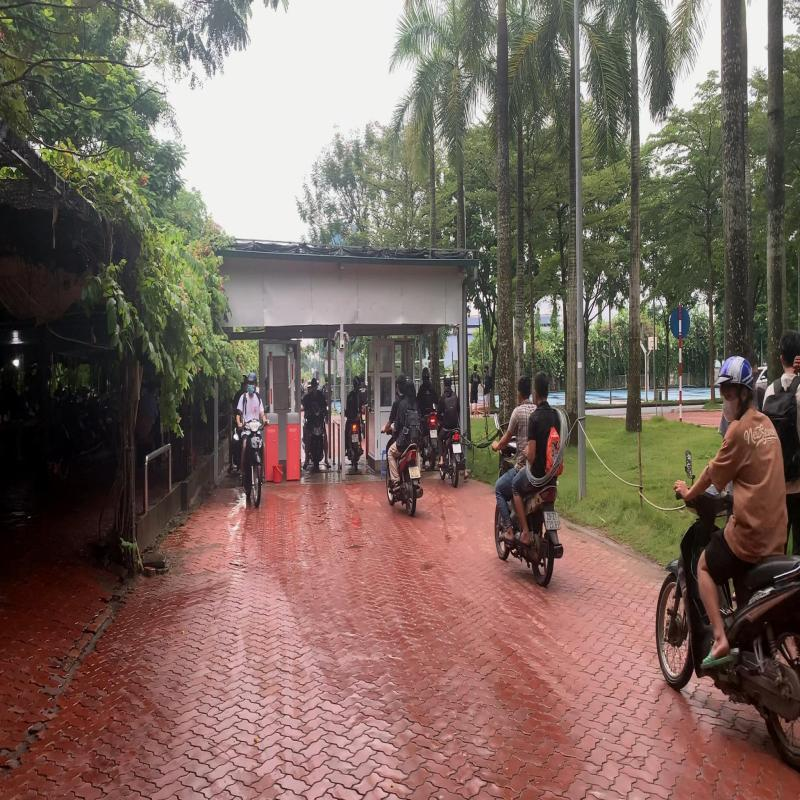nohelmet: (532, 370, 549, 404), (516, 374, 532, 401), (395, 372, 406, 395), (405, 378, 415, 398)
